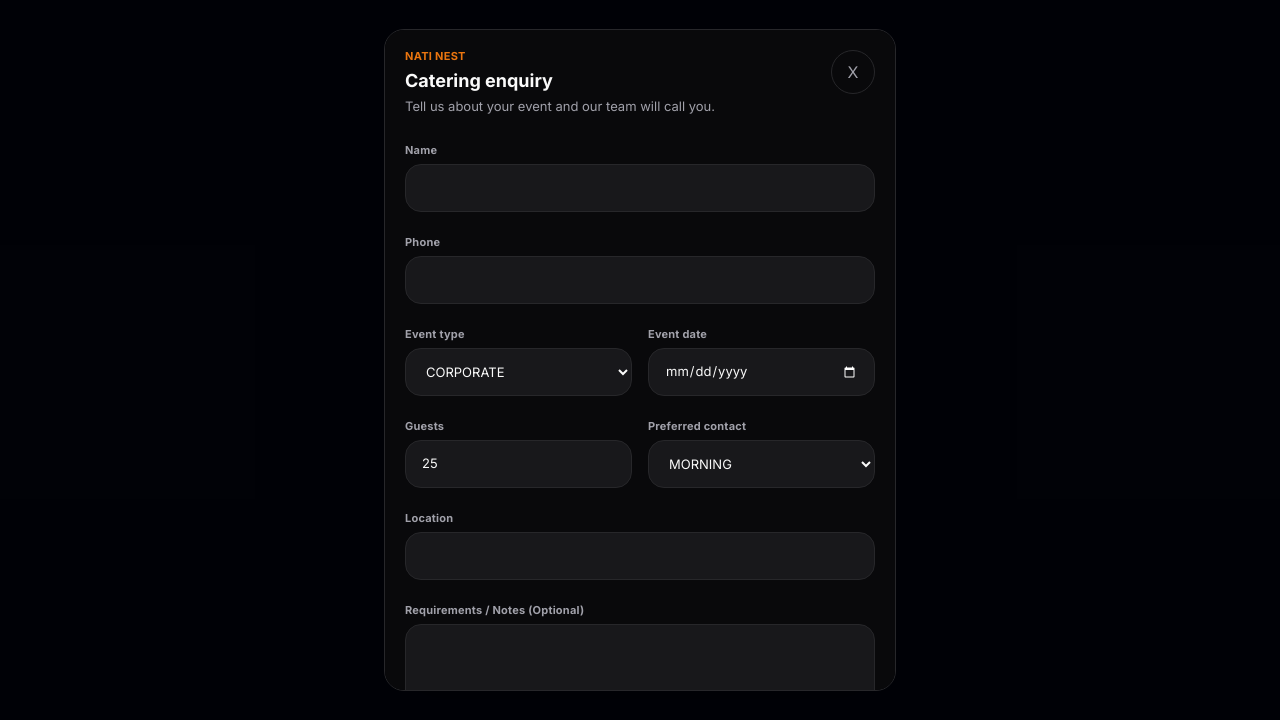
Test: CateringEnquiryForm › shows a friendly API error when submission fails
Type "Arun Kumar" into the field labelled "Name". click: (640, 188)
box: [405, 164, 875, 212]
Type "9876543210" into the field labelled "Phone". click: (640, 280)
box: [405, 256, 875, 304]
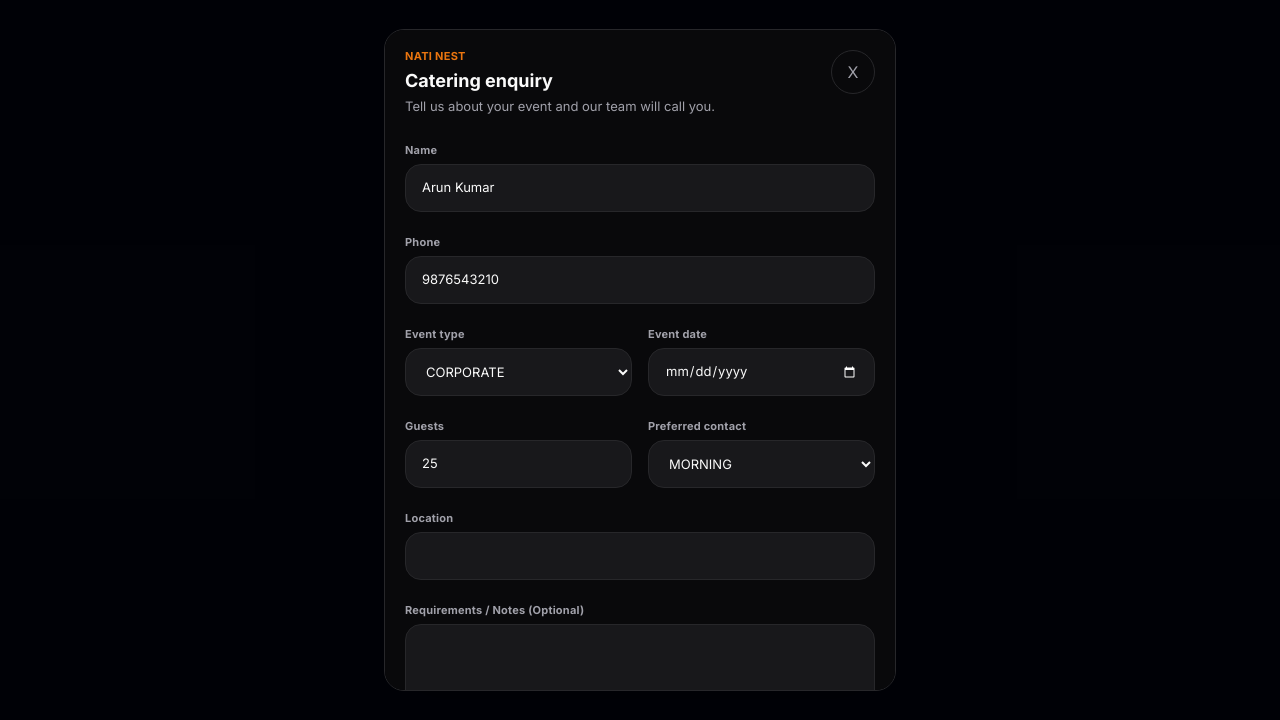
Type "2099-01-01" into the date field labelled "Event date". click: (762, 372)
box: [648, 348, 875, 396]
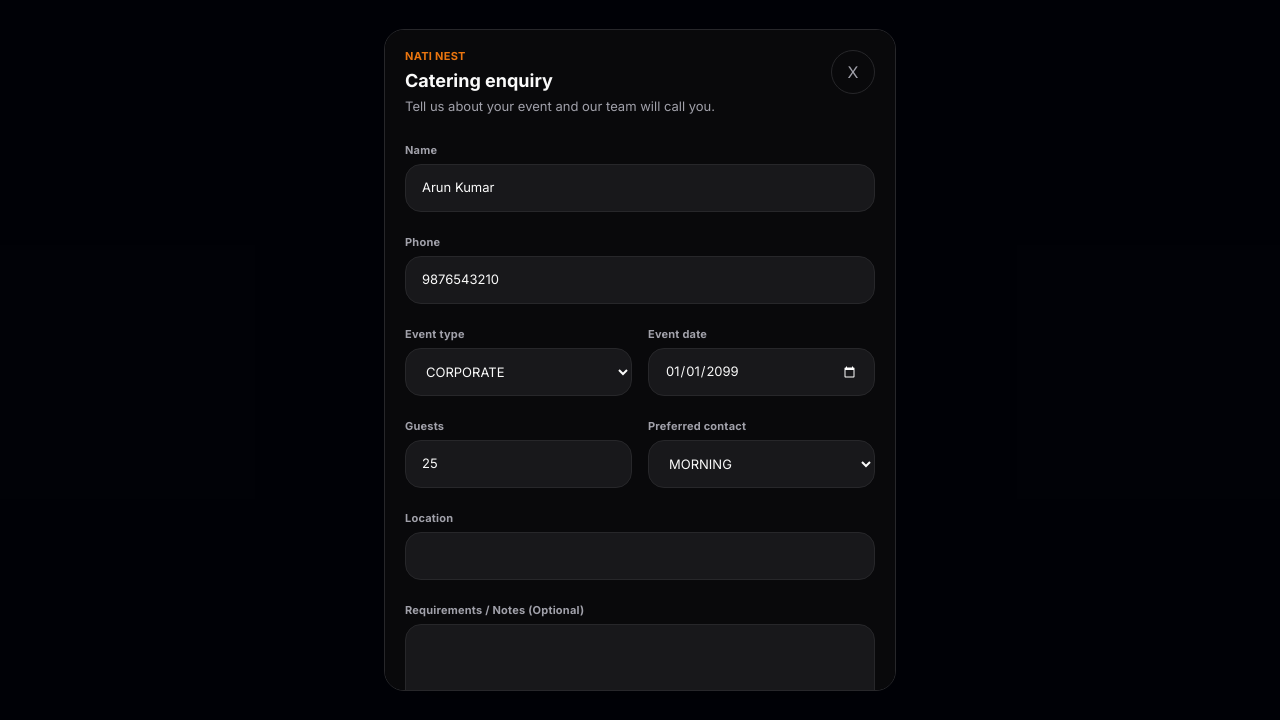
Replace the text in the number field labelled "Guests" with "80". click: (518, 464)
box: [405, 440, 632, 488]
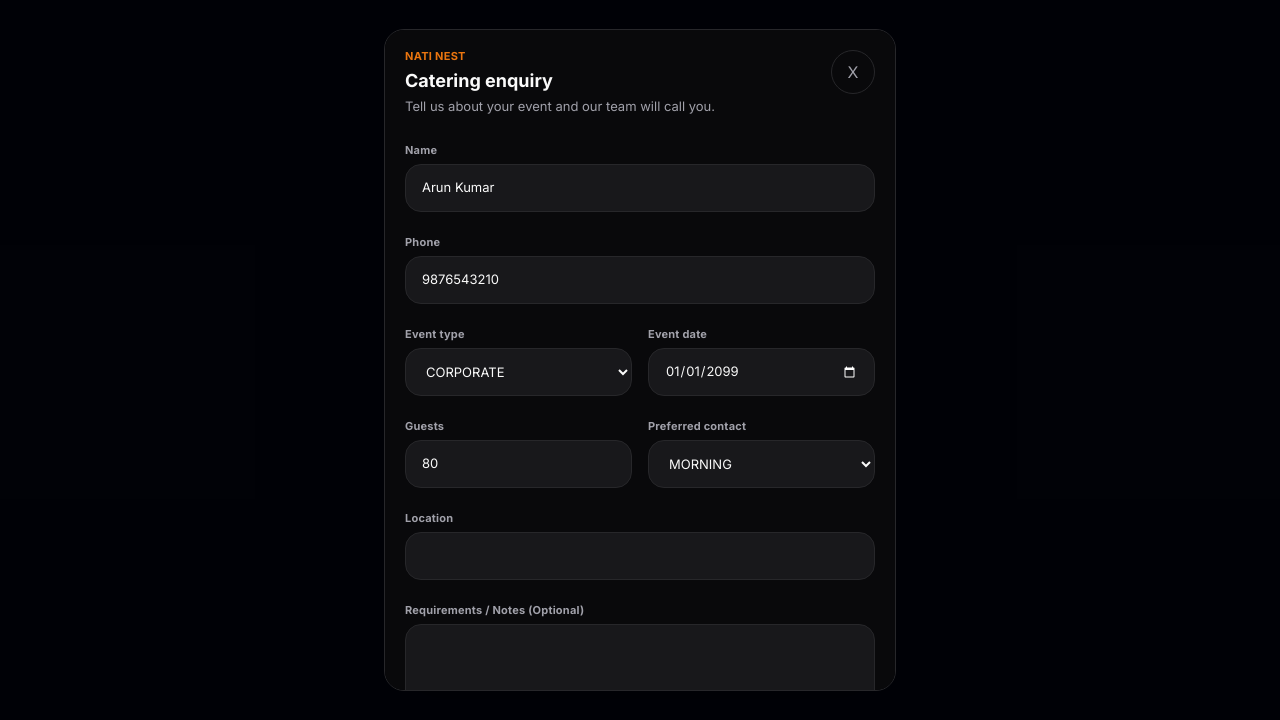
Type "Sports Club Hall" into the field labelled "Location". click: (640, 556)
box: [405, 532, 875, 580]
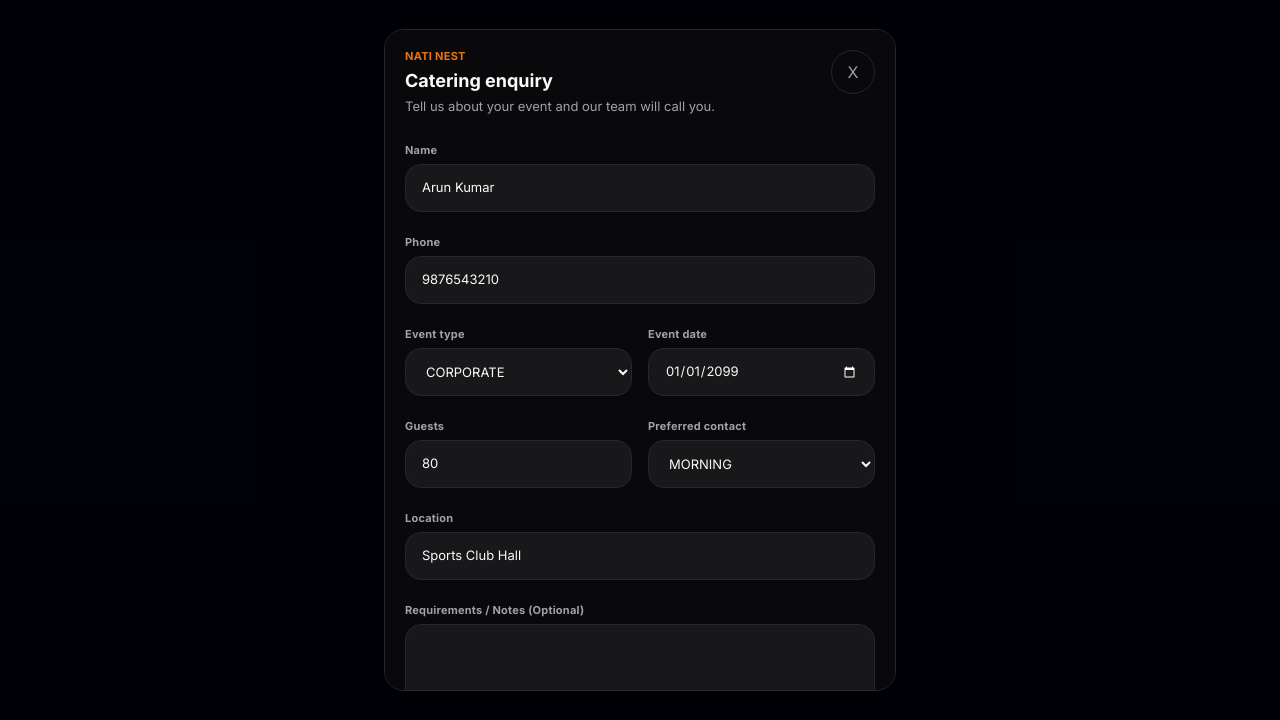
Type "South Indian buffet" into the text box labelled "Requirements / Notes (Optional) 0/500". click: (640, 666)
box: [405, 624, 875, 709]
(page scrolled)
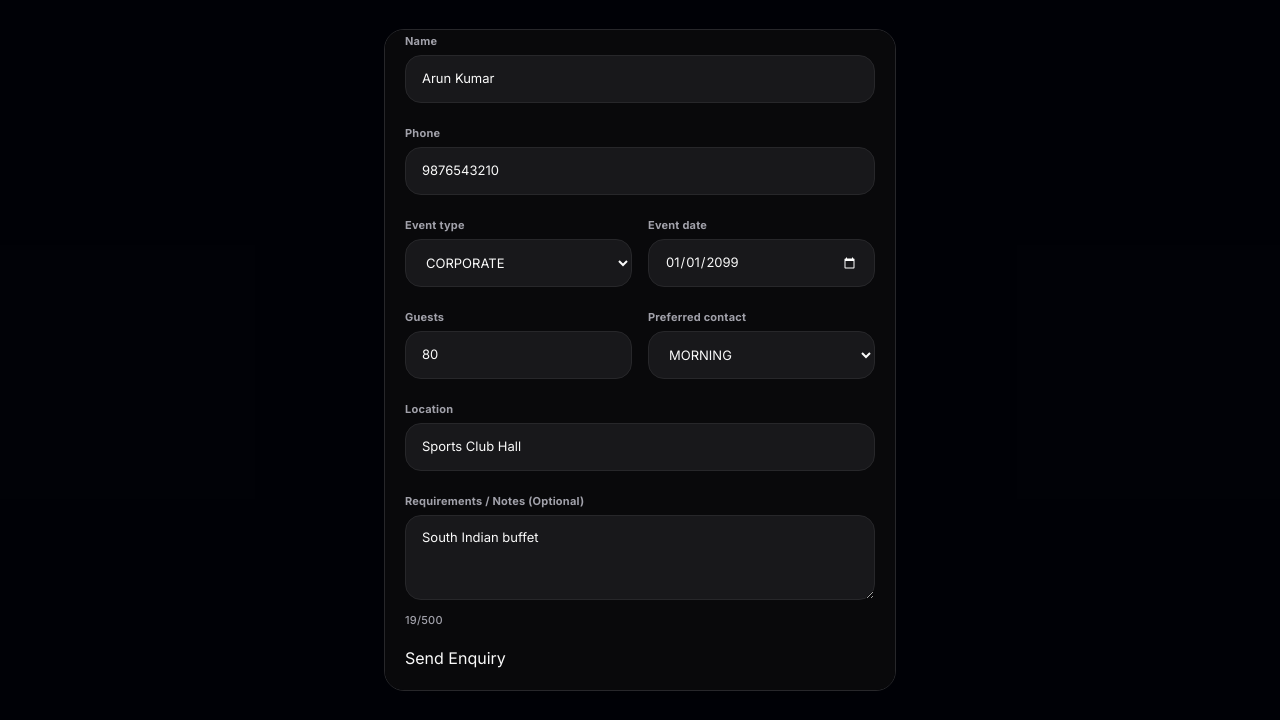
Click the button "Send Enquiry". click: (455, 658)
box: [405, 646, 506, 670]
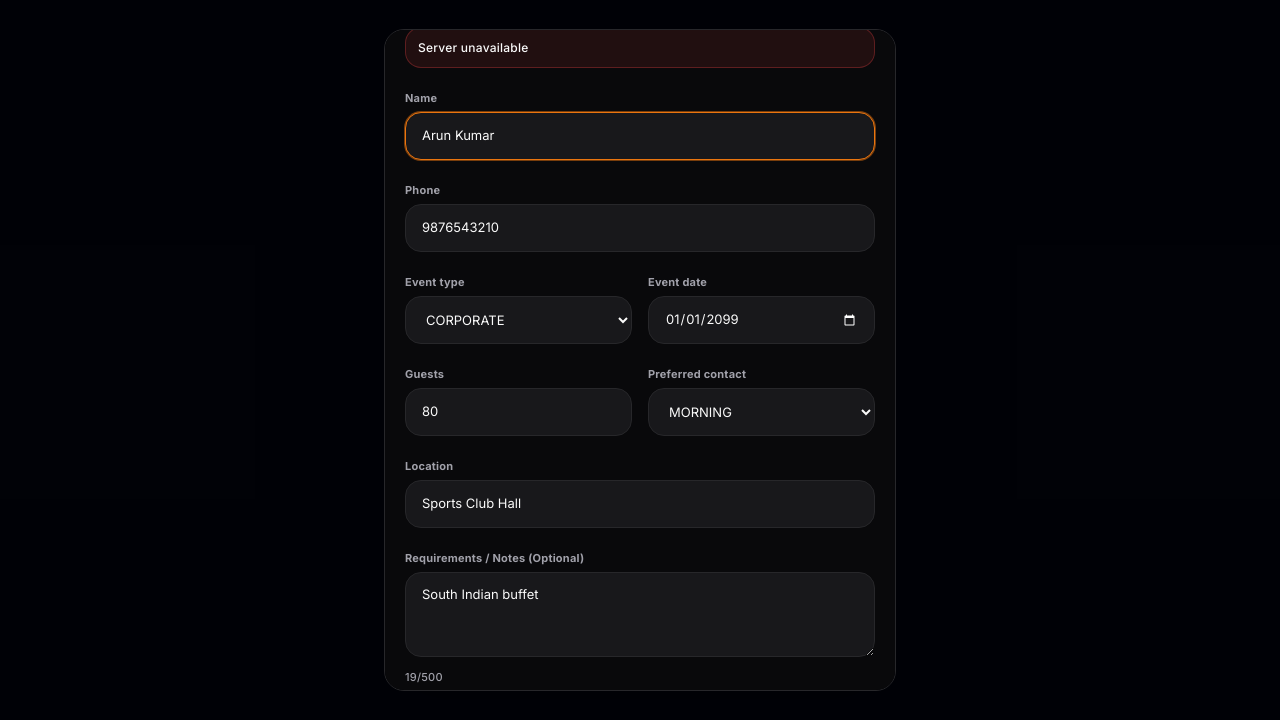
Now the message reads "Server unavailable", box [418, 40, 529, 55]
